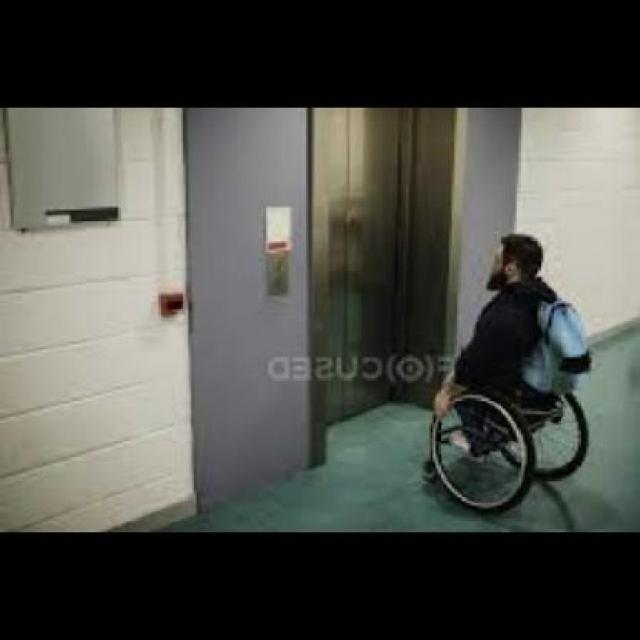wheelchairs: (428, 318, 584, 511)
